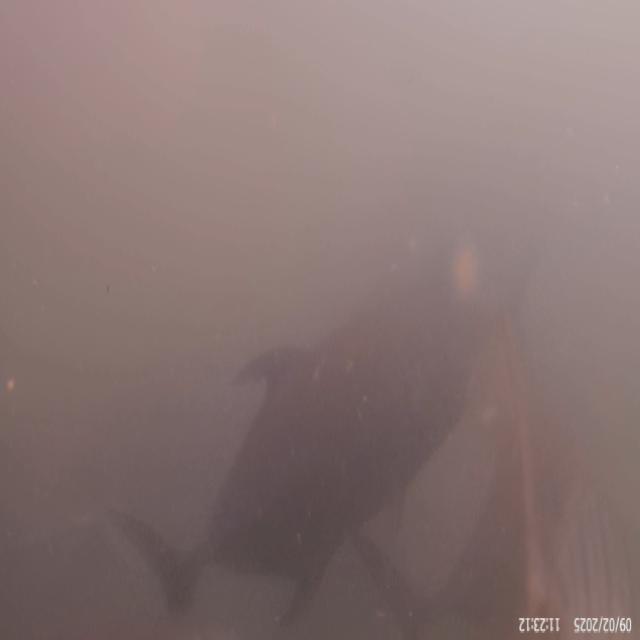ikan: (106, 289, 488, 584)
